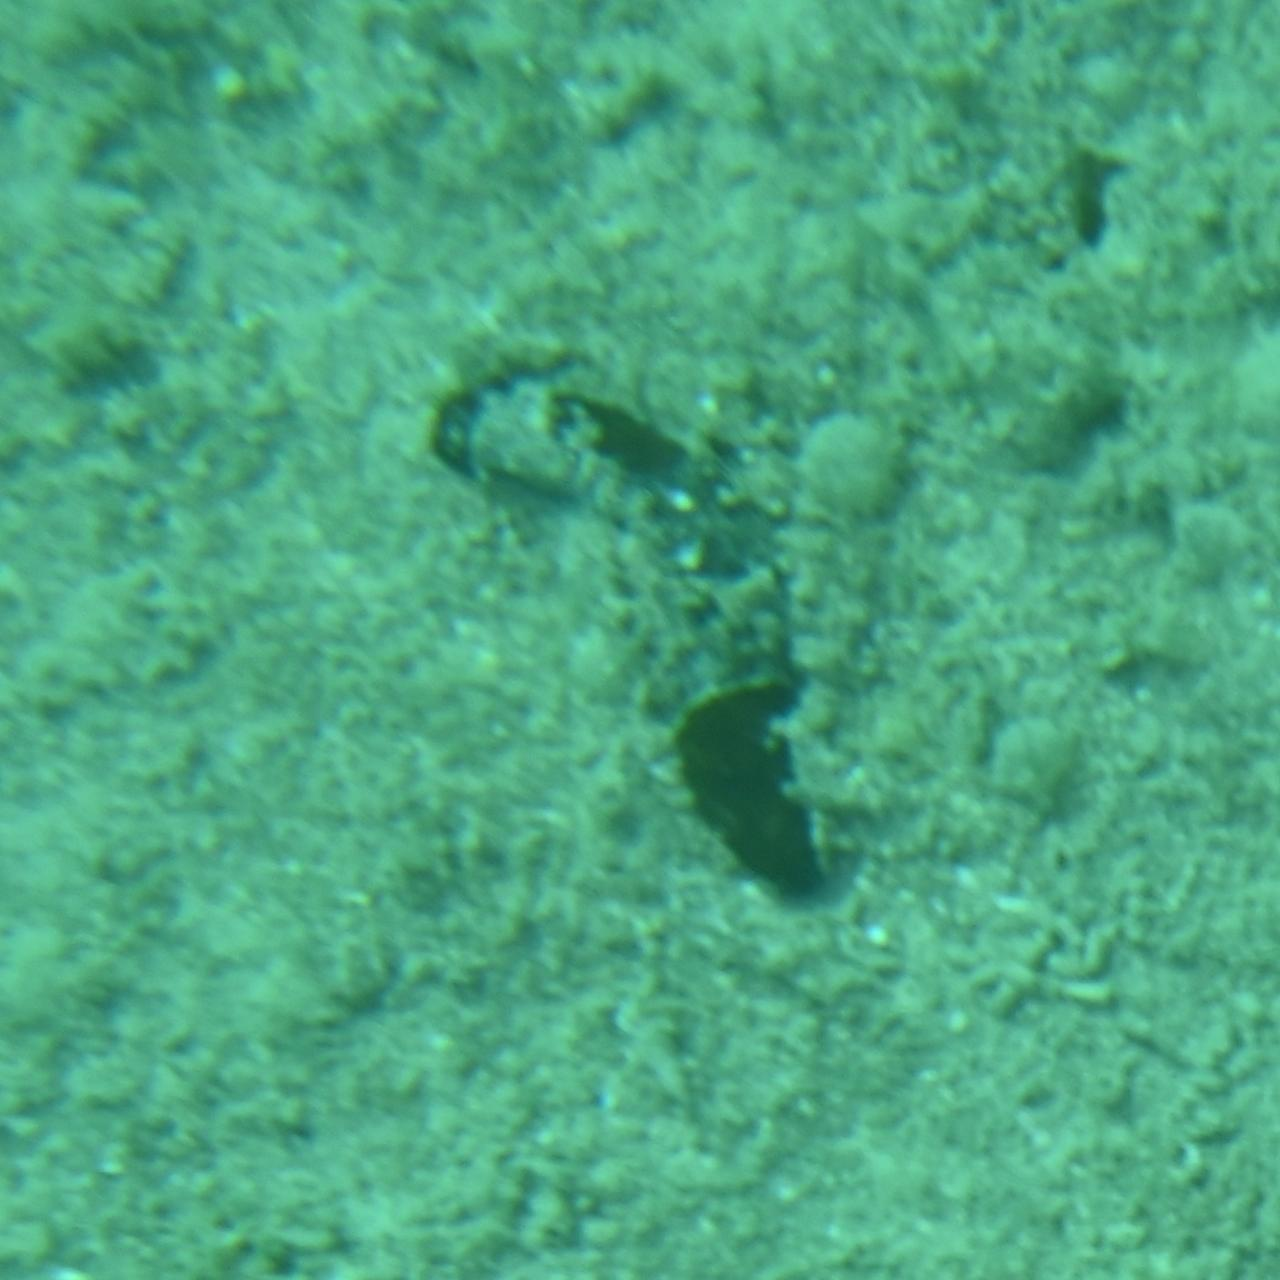Holothuria tubulosa: (432, 378, 848, 902)
